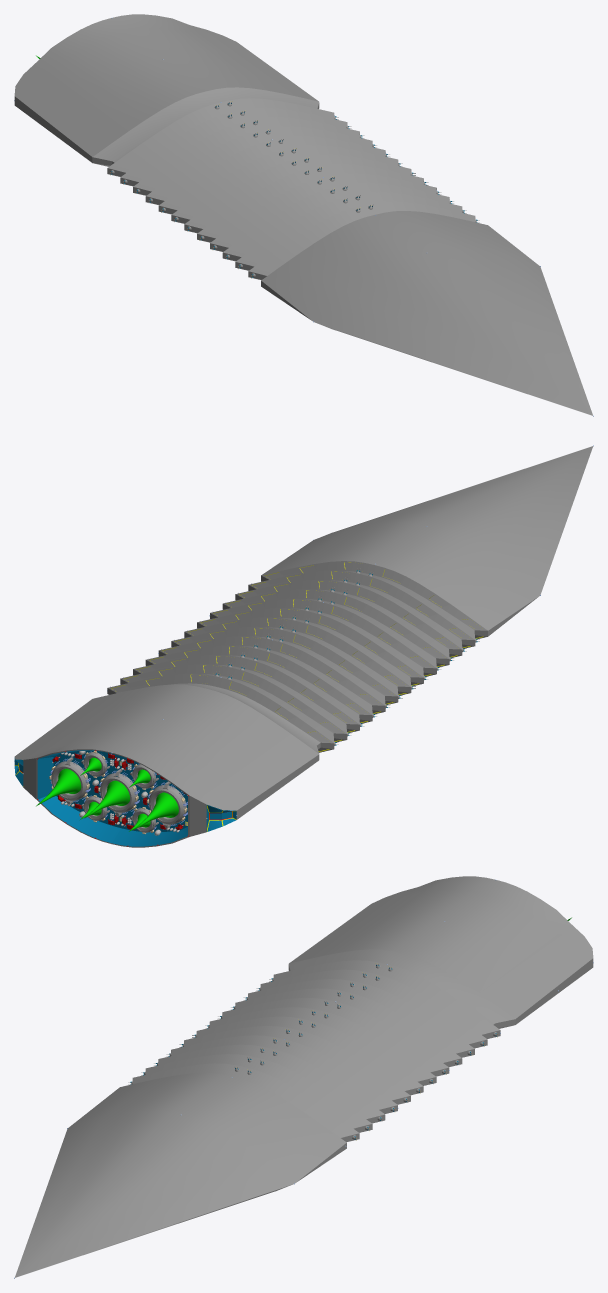
File: Carrier.fbx
3 views of the same model, one above another, from view 1: azimuth 30°, elevation 25°; view 2: azimuth 150°, elevation 25°; view 3: azimuth 330°, elevation 25° (orthographic).
Visible parts, largest first — view 1: Carrier; view 2: Carrier; view 3: Carrier.
Part boxes in pixels (box(x1,y1,x2,y2)): Carrier: box(14, 14, 593, 416); Carrier: box(14, 445, 593, 847); Carrier: box(14, 876, 593, 1278).
Bounding box in the file's own units: 5924 × 2285 × 22851.
